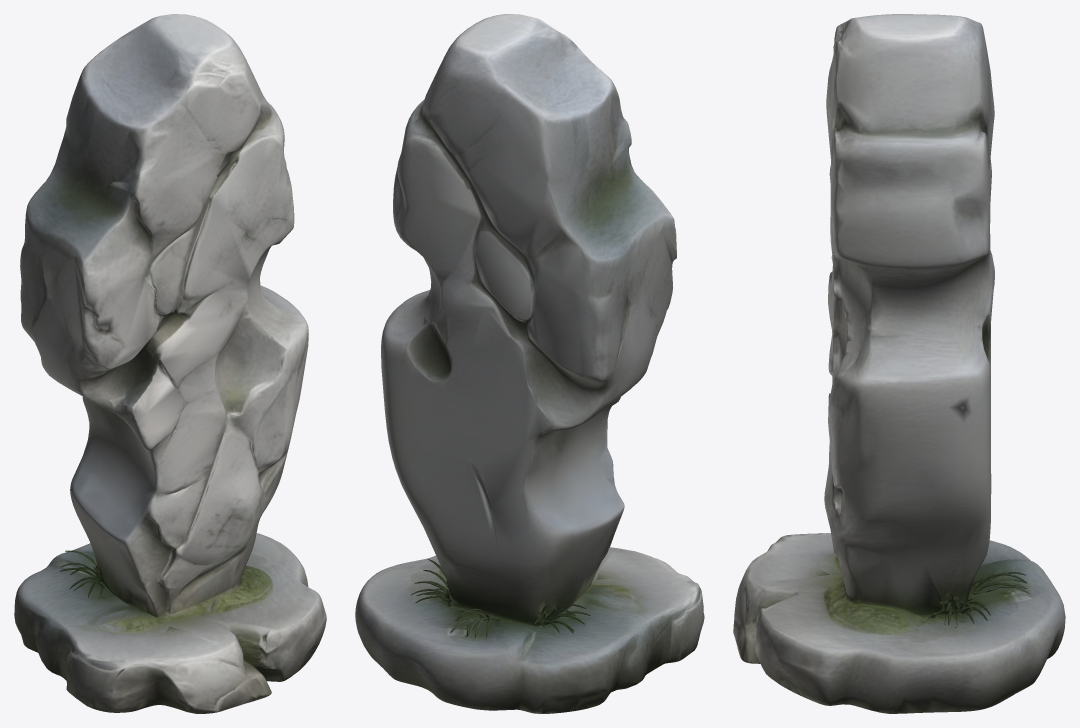
Rendered from stoneBankA.glb.
3 renders of one model, left to right at view 1: azimuth 30°, elevation 25°; view 2: azimuth 150°, elevation 25°; view 3: azimuth 270°, elevation 25°, orthographic. The views are drawn at different scales.
Parts seen in each view (by area): view 1: node_0; view 2: node_0; view 3: node_0.
Boxes of the visible parts, x1=… form: node_0: x1=14, y1=14, x2=326, y2=713; node_0: x1=355, y1=14, x2=704, y2=713; node_0: x1=733, y1=14, x2=1065, y2=713.
Size of the model in its own units: 0.5034 by 1.1 by 0.5175.
1 material, 1 textured.
